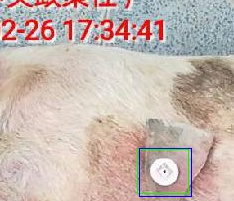text: (137, 149, 188, 193)
